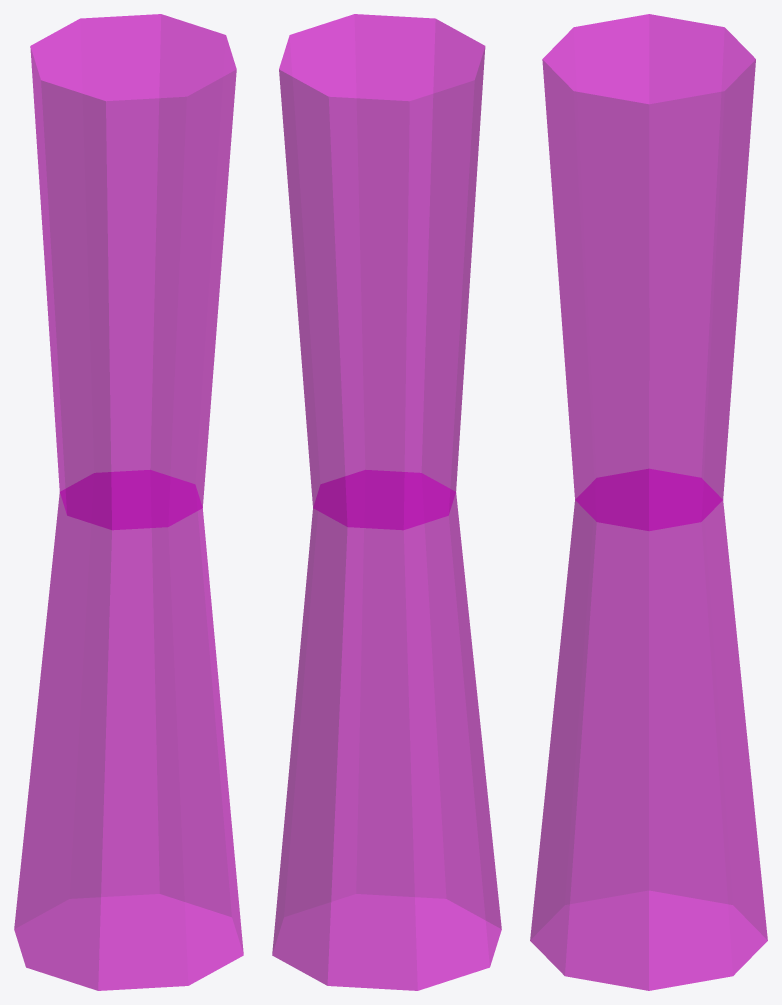
File: SM_Veh_Ship_L_Mast_Middle_02_Base_01_Collision.fbx
3 renders of one model, left to right at view 1: azimuth 30°, elevation 25°; view 2: azimuth 150°, elevation 25°; view 3: azimuth 270°, elevation 25°, orthographic.
Parts seen in each view (by area): view 1: SM_Veh_Ship_L_Mast_Middle_02_Base_01_Collision; view 2: SM_Veh_Ship_L_Mast_Middle_02_Base_01_Collision; view 3: SM_Veh_Ship_L_Mast_Middle_02_Base_01_Collision.
Boxes of the visible parts, left/top/right/bottom form: SM_Veh_Ship_L_Mast_Middle_02_Base_01_Collision: left=14, top=14, right=243, bottom=990; SM_Veh_Ship_L_Mast_Middle_02_Base_01_Collision: left=272, top=14, right=501, bottom=990; SM_Veh_Ship_L_Mast_Middle_02_Base_01_Collision: left=530, top=14, right=767, bottom=990.
Size of the model in its own units: 141 by 577 by 141.
